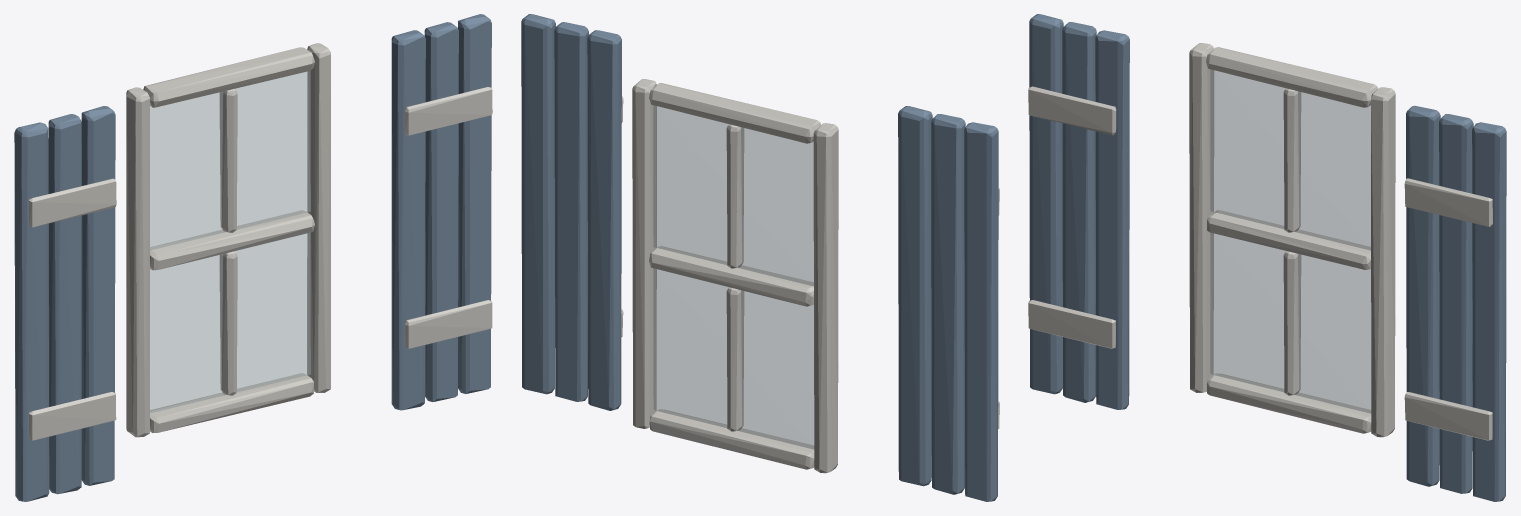
The model's file is SM_Kit_Window_DoubleHung_Shutters_LOD1.glb.
3 renders of one model, left to right at view 1: azimuth 30°, elevation 25°; view 2: azimuth 150°, elevation 25°; view 3: azimuth 330°, elevation 25°, orthographic.
Parts seen in each view (by area): view 1: SM_Kit_Window_DoubleHung_Shutters_LOD1; view 2: SM_Kit_Window_DoubleHung_Shutters_LOD1; view 3: SM_Kit_Window_DoubleHung_Shutters_LOD1.
Boxes of the visible parts, x1,y1,x2,y2 form: SM_Kit_Window_DoubleHung_Shutters_LOD1: [14, 14, 492, 501]; SM_Kit_Window_DoubleHung_Shutters_LOD1: [521, 14, 999, 501]; SM_Kit_Window_DoubleHung_Shutters_LOD1: [1028, 14, 1506, 501].
Bounding box in the file's own units: 1.67 × 1.26 × 0.2501.
